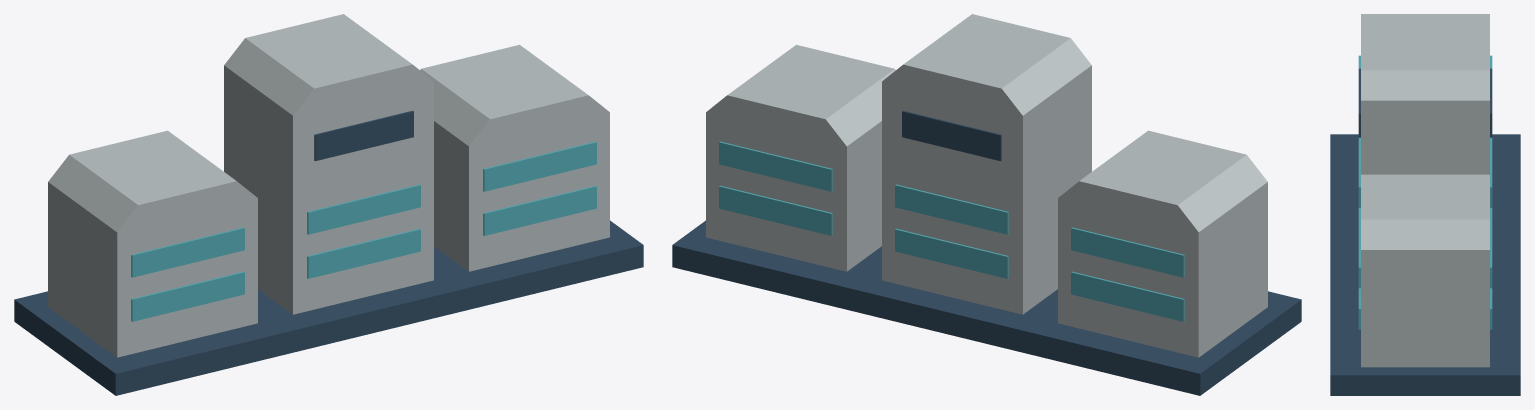
Rendered from SpaceStation_StationFacade_Simple.glb.
The picture shows the model from 3 angles, left to right: view 1: azimuth 30°, elevation 25°; view 2: azimuth 150°, elevation 25°; view 3: azimuth 270°, elevation 25°; orthographic projection. The views are drawn at different scales.
Visible parts, largest first — view 1: SpaceStation_StationFacade_Simple; view 2: SpaceStation_StationFacade_Simple; view 3: SpaceStation_StationFacade_Simple.
Part boxes in pixels (box(x1,y1,x2,y2)): SpaceStation_StationFacade_Simple: box(14, 14, 643, 395); SpaceStation_StationFacade_Simple: box(672, 14, 1301, 395); SpaceStation_StationFacade_Simple: box(1330, 14, 1520, 395).
Bounding box in the file's own units: 15 × 6.6 × 5.
